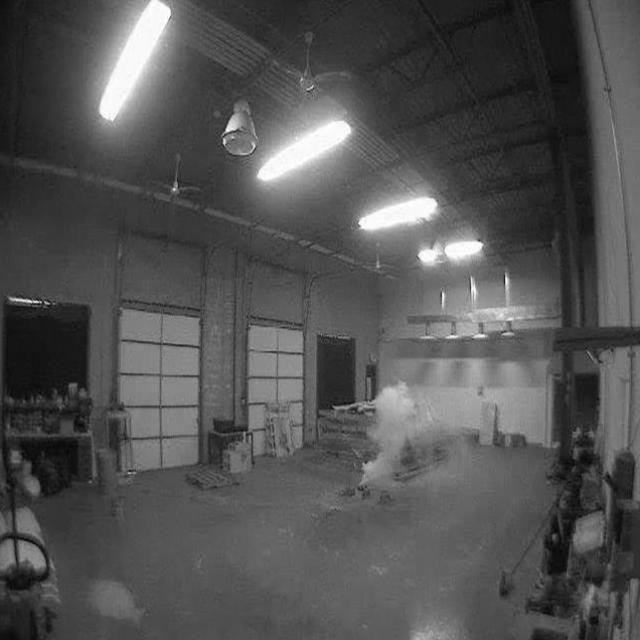fire: (356, 378, 449, 496)
